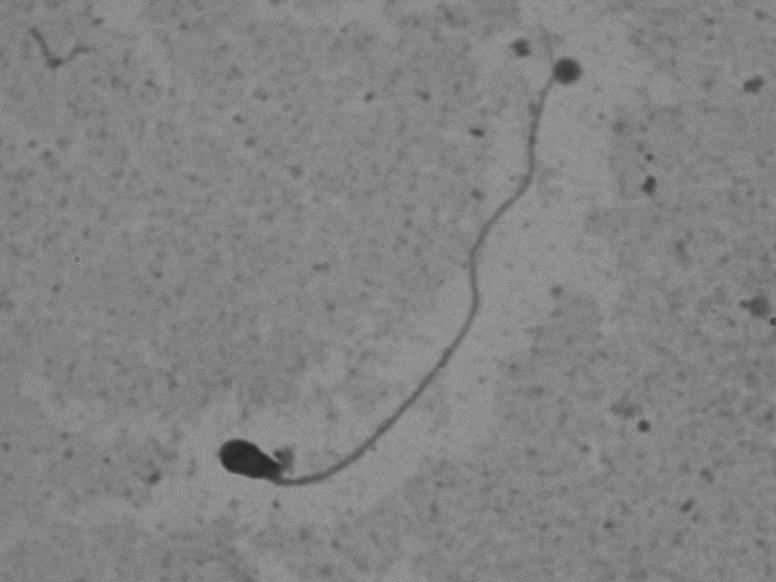Abnormal: (187, 99, 597, 522)
